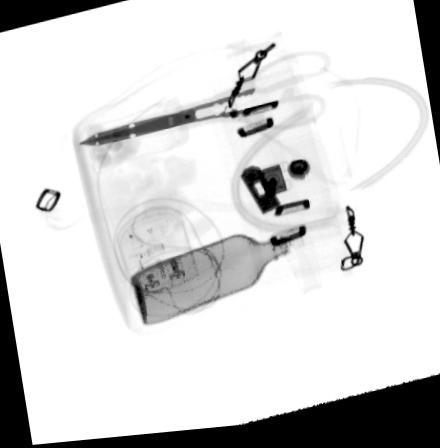Scissors: (79, 53, 335, 149)
